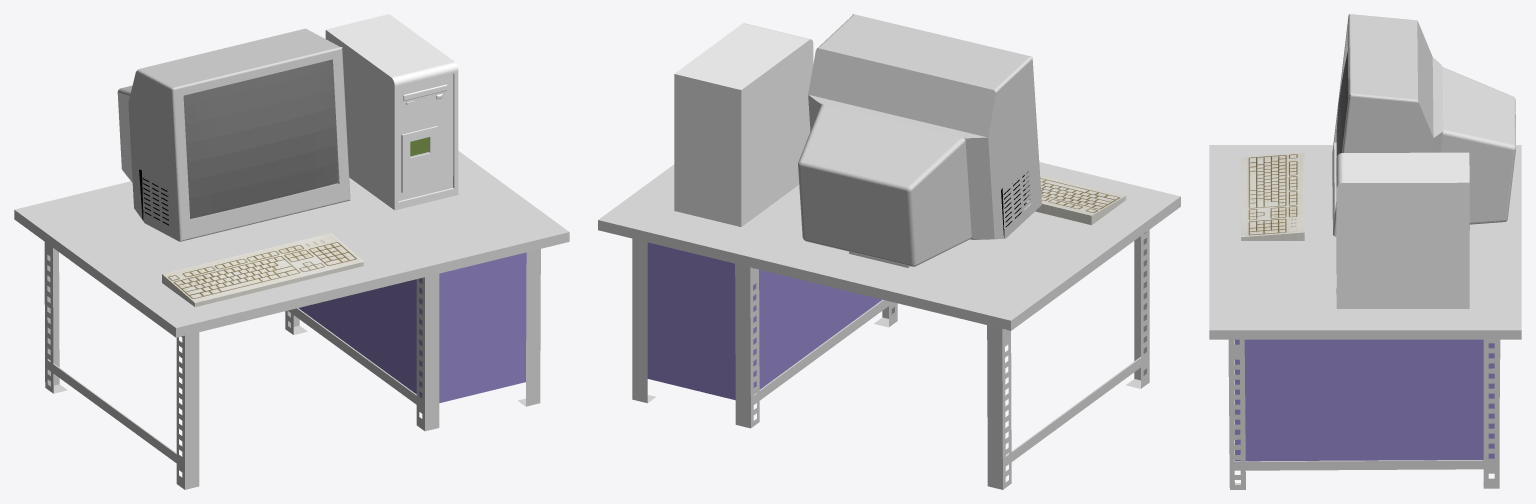
File: 90s_old_school_pc_set.glb
3 renders of one model, left to right at view 1: azimuth 30°, elevation 25°; view 2: azimuth 150°, elevation 25°; view 3: azimuth 270°, elevation 25°, orthographic. The views are drawn at different scales.
Visible parts, largest first — view 1: Plane, Cube, Plane.002, Sphere.001, Cube.013, Plane.001, Cube.010, Cube.004, Cube.009, Cube.005, Cube.006, Cube.011; view 2: Cube, Plane, Plane.002, Cube.013, Cube.012, Cube.005, Plane.001, Cube.007, Cube.004, Cube.006, Cube.011; view 3: Plane, Cube.013, Cube, Plane.002, Plane.001, Cube.008, Cube.007, Cube.009, Sphere.001.
Boxes of the visible parts, box(x1,y1,x2,y2) form: Plane: box(14, 151, 569, 337); Cube: box(117, 28, 350, 241); Plane.002: box(325, 14, 458, 210); Sphere.001: box(183, 60, 337, 218); Cube.013: box(298, 252, 526, 402); Plane.001: box(162, 233, 363, 307); Cube.010: box(416, 274, 439, 431); Cube.004: box(176, 332, 199, 489); Cube.009: box(517, 249, 540, 406); Cube.005: box(44, 242, 67, 393); Cube.006: box(47, 359, 176, 462); Cube.011: box(288, 308, 416, 404); Cube: box(798, 14, 1041, 266); Plane: box(598, 162, 1180, 330); Plane.002: box(674, 23, 813, 226); Cube.013: box(647, 242, 881, 400); Cube.012: box(735, 263, 759, 428); Cube.005: box(987, 325, 1011, 489); Plane.001: box(1035, 174, 1126, 225); Cube.007: box(632, 238, 655, 403); Cube.004: box(1126, 230, 1149, 388); Cube.006: box(1005, 357, 1140, 466); Cube.011: box(753, 299, 888, 404); Plane: box(1209, 145, 1521, 339); Cube.013: box(1235, 339, 1494, 461); Cube: box(1332, 14, 1516, 236); Plane.002: box(1336, 152, 1469, 308); Plane.001: box(1241, 153, 1304, 240); Cube.008: box(1234, 460, 1483, 470); Cube.007: box(1483, 339, 1499, 488); Cube.009: box(1228, 339, 1245, 489); Sphere.001: box(1336, 51, 1348, 156).
Size of the model in its own units: 2.02 by 1.69 by 1.44.
16 materials, 1 textured.
